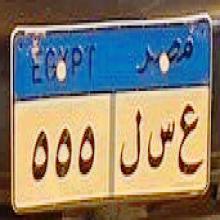5: (77, 121, 100, 178), (28, 128, 51, 184), (55, 124, 73, 175)
ain: (176, 101, 200, 184)
laam: (118, 107, 143, 181)
seen: (148, 117, 175, 174)
